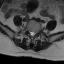CCS_normal: (31, 29, 33, 39)
LFS_normal: (35, 29, 37, 36)
LLS_normal: (33, 29, 35, 37)
RFS_normal: (27, 27, 29, 34)
RLS_normal: (29, 29, 31, 36)
